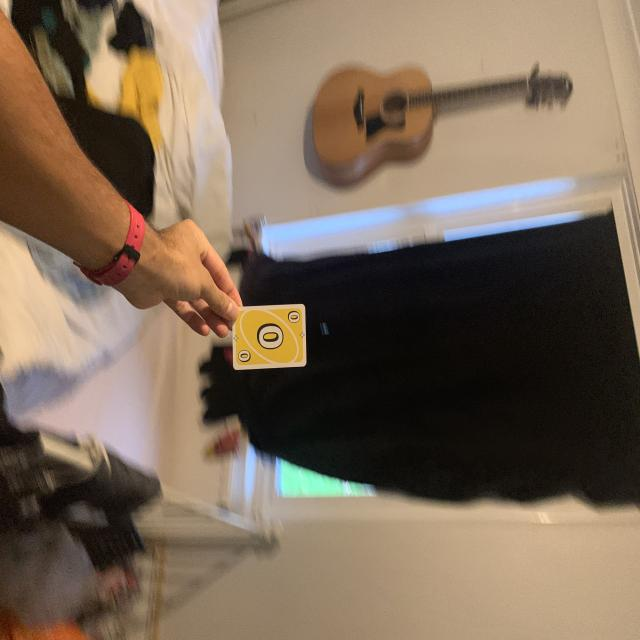lyellow-0: (284, 309, 302, 326)
